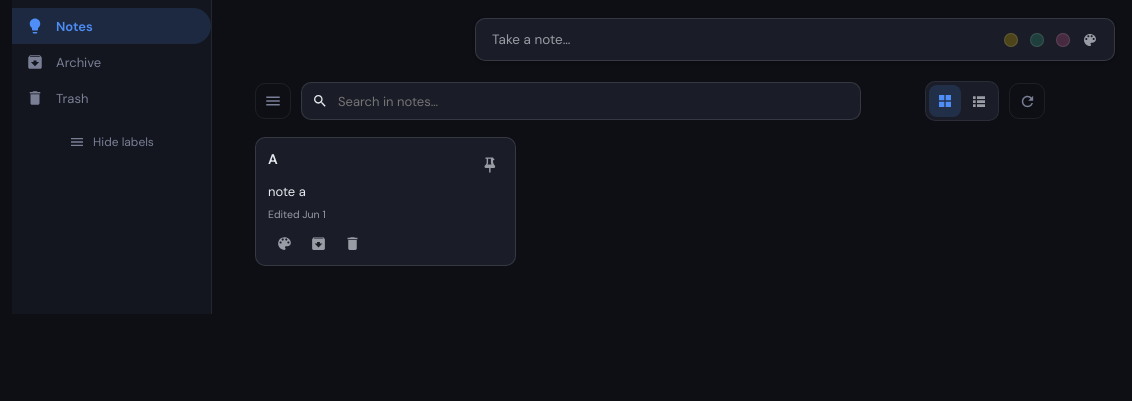
pin action persists and the Pinned section appears
Expected: the button "A note a Edited Jun 1" is shown, [255,137,516,266]
Click the button named "pin note": (489, 164) [475,150,503,178]
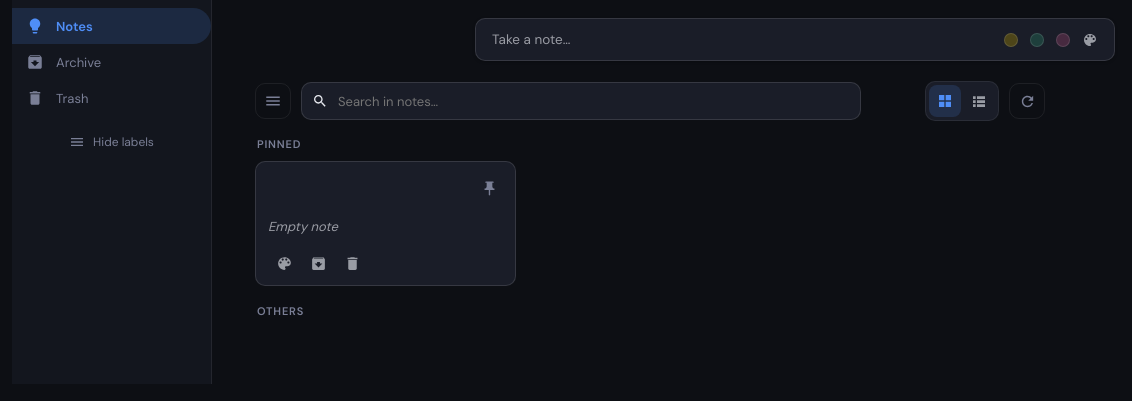
Expected: the text "Pinned" is shown, [257,137,301,151]
